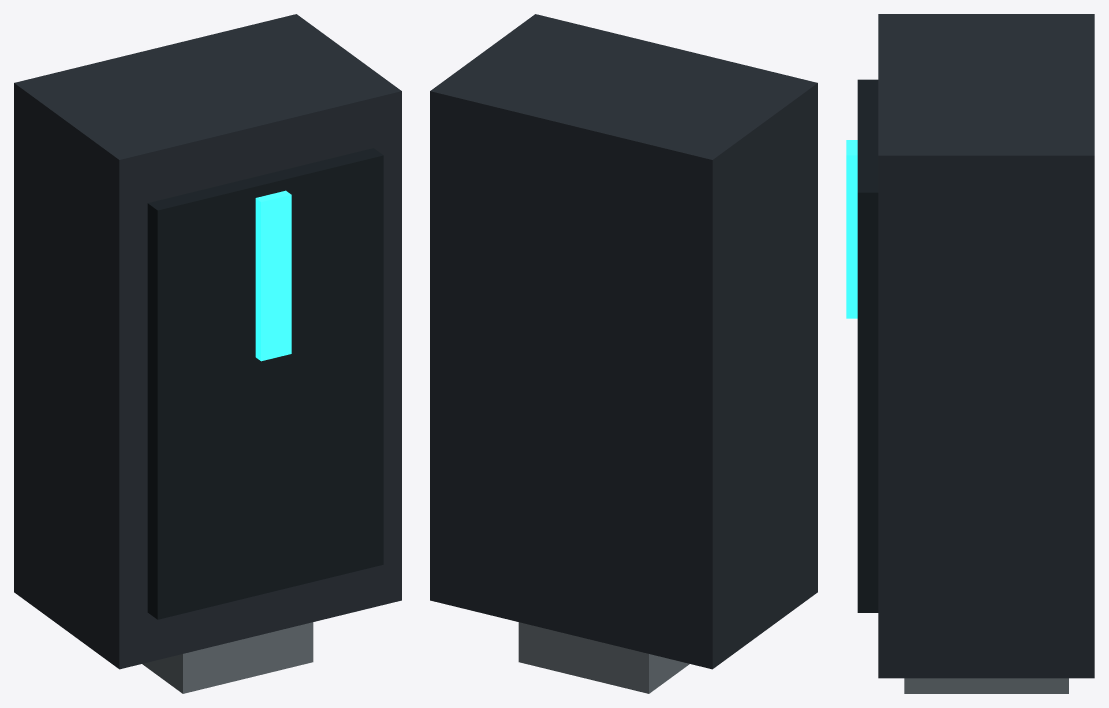
Rendered from power_cell.glb.
3 renders of one model, left to right at view 1: azimuth 30°, elevation 25°; view 2: azimuth 150°, elevation 25°; view 3: azimuth 270°, elevation 25°, orthographic. The views are drawn at different scales.
Parts seen in each view (by area): view 1: Cartridge, CartridgeFace, LockTab, CapacityStripe; view 2: Cartridge, LockTab; view 3: Cartridge, CartridgeFace, LockTab, CapacityStripe.
Part boxes in pixels (box(x1,y1,x2,y2)): Cartridge: box(14, 14, 401, 669); CartridgeFace: box(147, 148, 383, 619); LockTab: box(142, 622, 313, 693); CapacityStripe: box(255, 190, 291, 361); Cartridge: box(430, 14, 817, 669); LockTab: box(518, 622, 689, 693); Cartridge: box(878, 14, 1094, 678); CartridgeFace: box(857, 79, 878, 612); LockTab: box(904, 678, 1068, 693); CapacityStripe: box(846, 140, 857, 318).
Size of the model in its own units: 0.65 by 1.24 by 0.4825.
